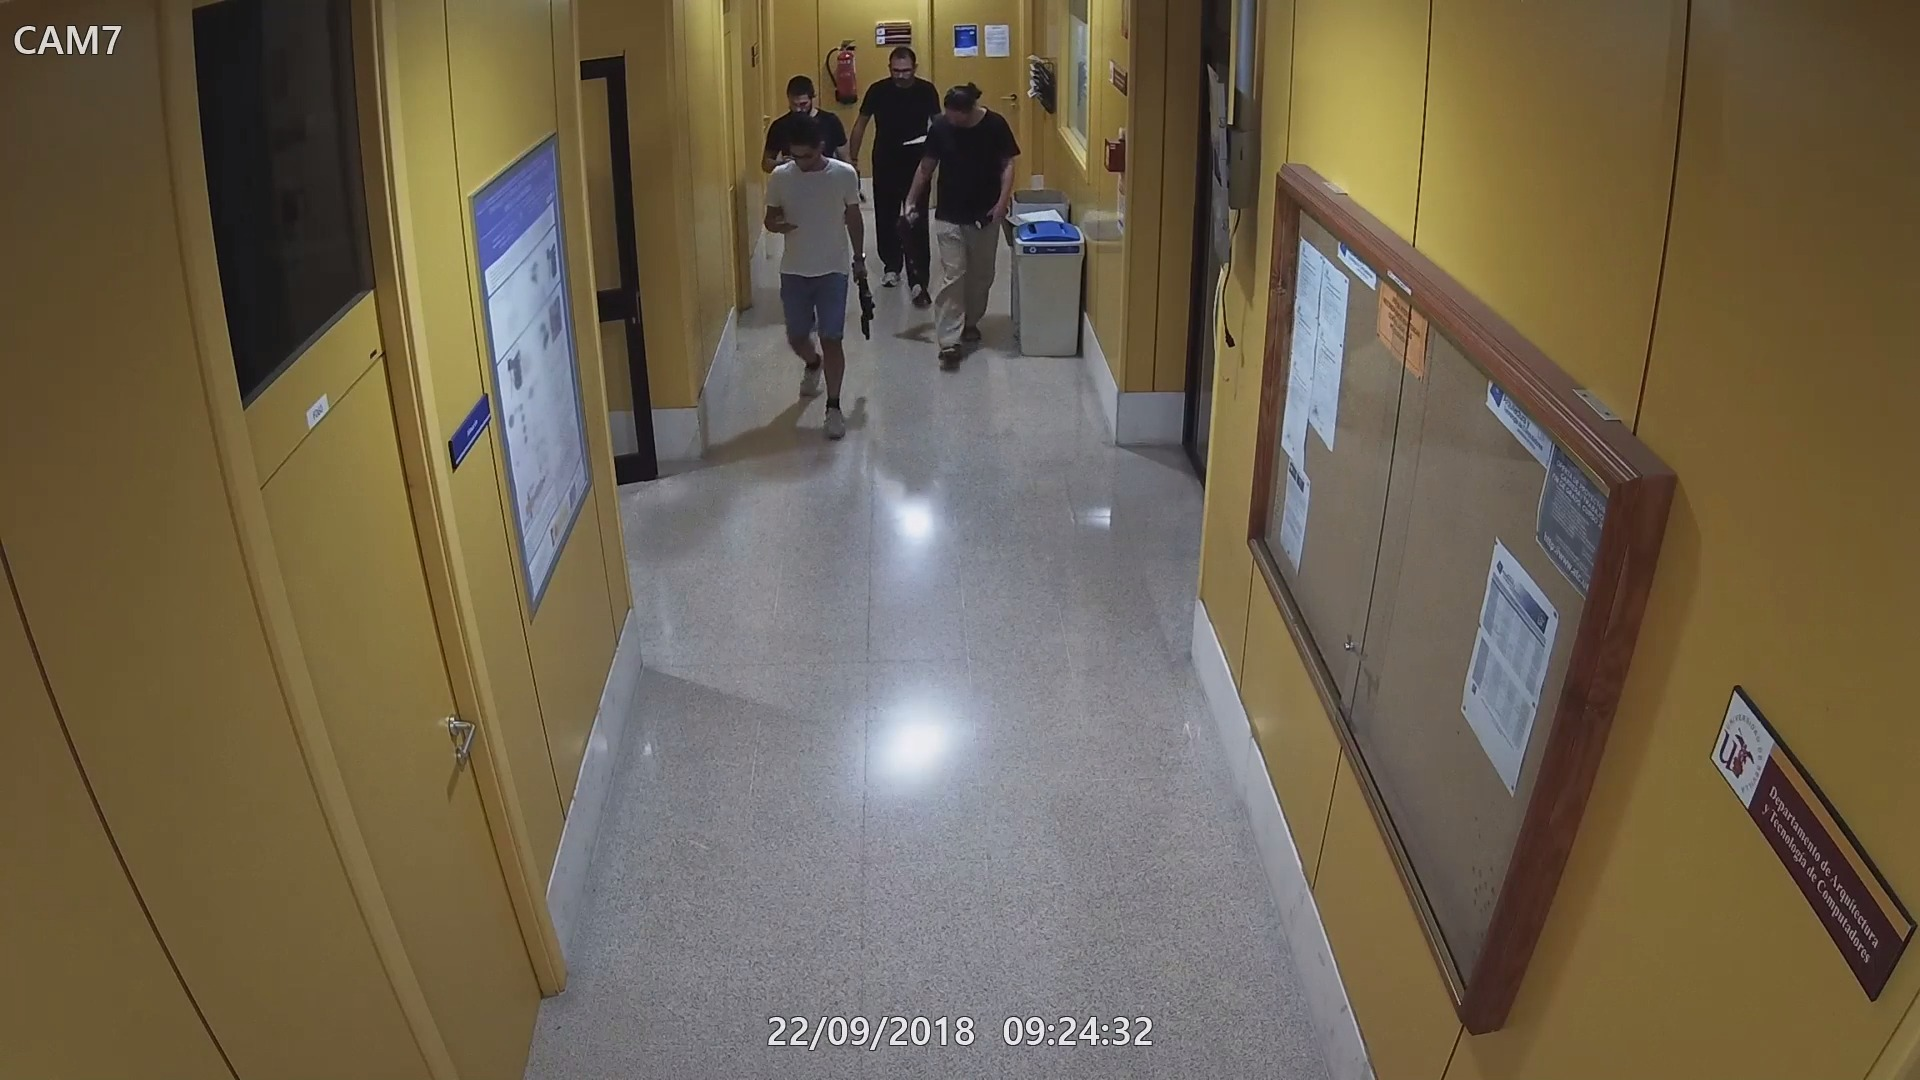Short_rifle: (851, 255, 878, 342), (899, 203, 926, 291)
